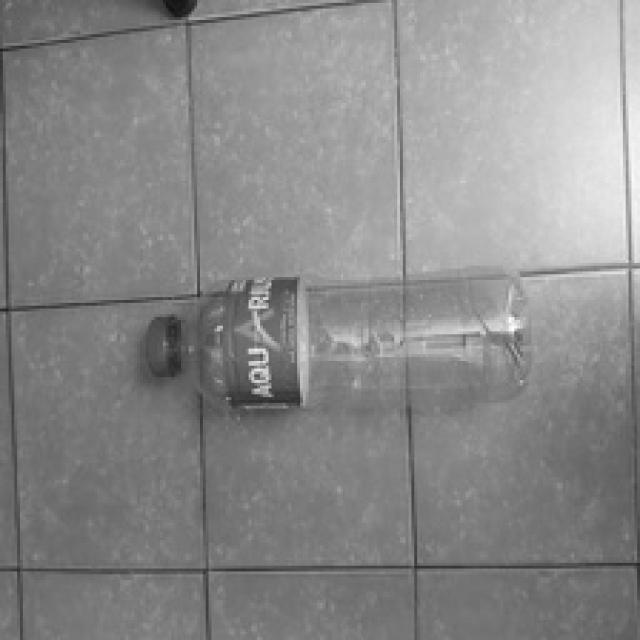plastic bottle: (134, 267, 540, 418)
